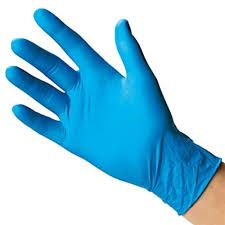gloves: (6, 8, 222, 217)
